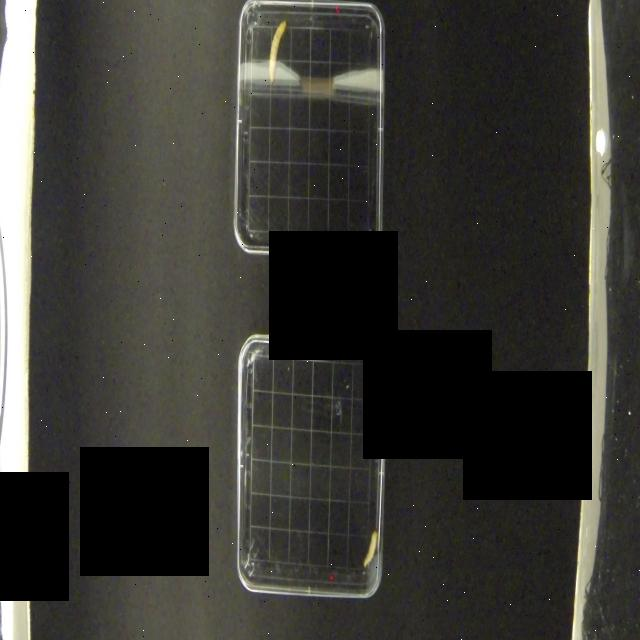larva: (268, 16, 288, 86), (362, 525, 378, 572)
